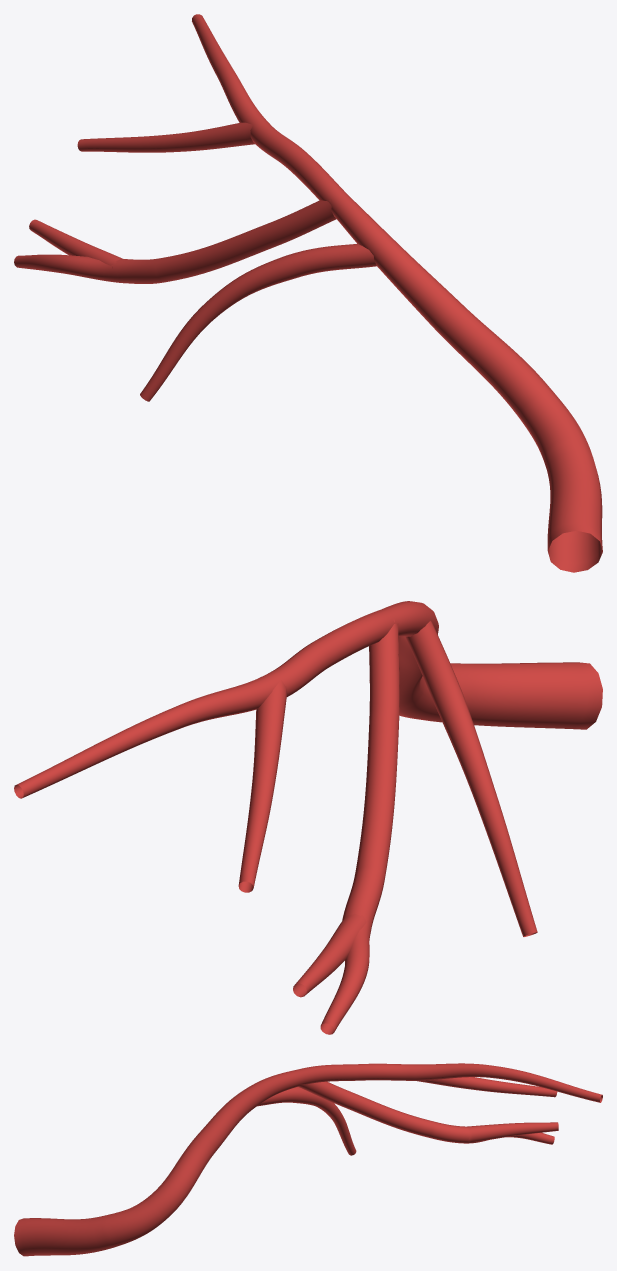
The picture shows the model from 3 angles, top to bottom: view 1: azimuth 30°, elevation 25°; view 2: azimuth 150°, elevation 25°; view 3: azimuth 270°, elevation 25°; orthographic projection. The views are drawn at different scales.
Visible parts, largest first — view 1: 左肺后底段动脉; view 2: 左肺后底段动脉; view 3: 左肺后底段动脉.
Boxes of the visible parts, <box> form: 左肺后底段动脉: <box>14,14,602,572</box>; 左肺后底段动脉: <box>14,601,602,1034</box>; 左肺后底段动脉: <box>14,1063,602,1256</box>.
Bounding box in the file's own units: 0.0767 × 0.0701 × 0.2033.
